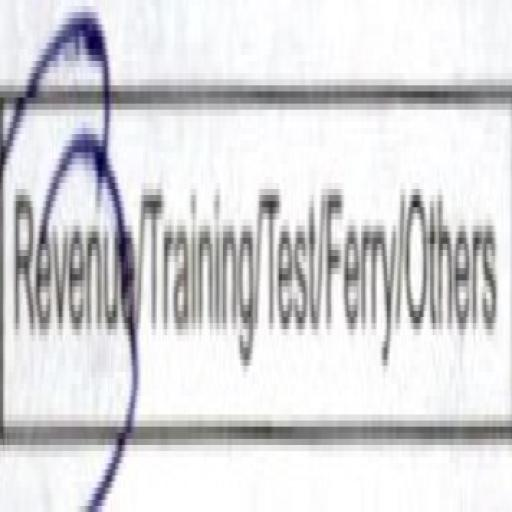check: (1, 31, 140, 512)
